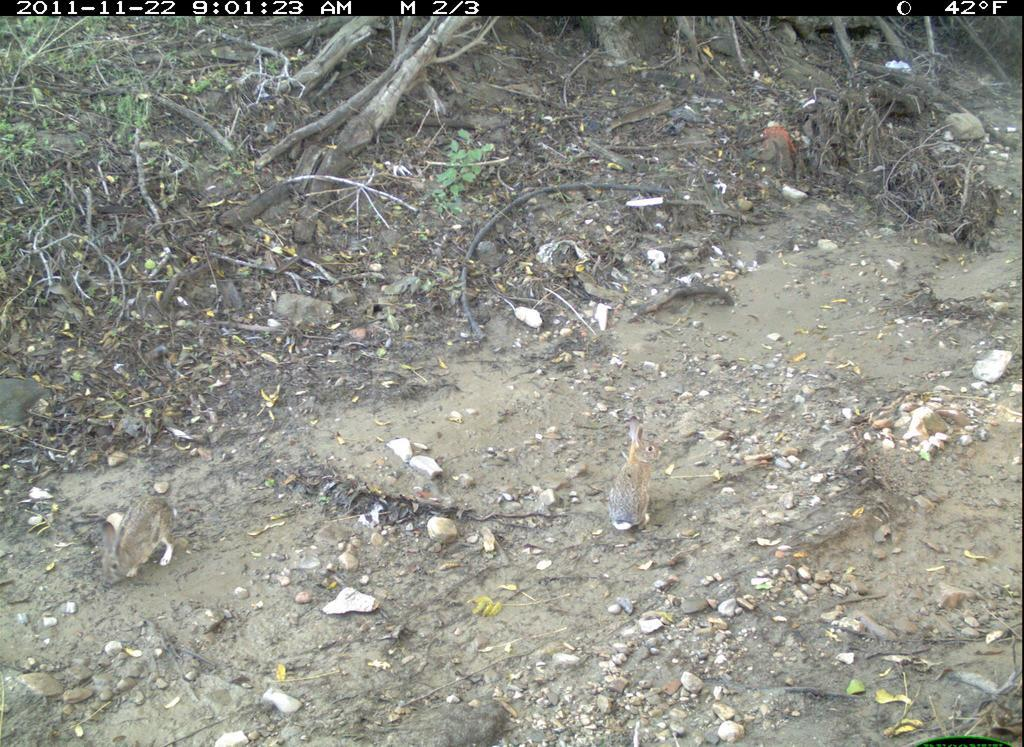rabbit: (94, 456, 255, 619), (557, 420, 676, 552)
